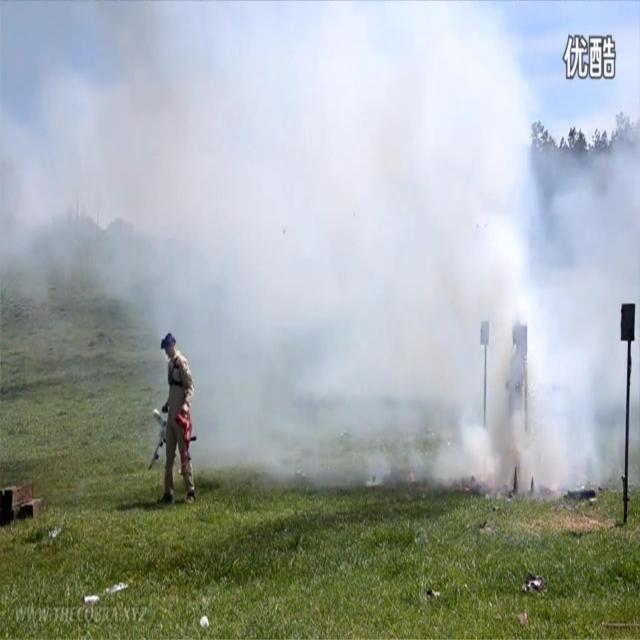Smoke: (0, 1, 640, 503)
